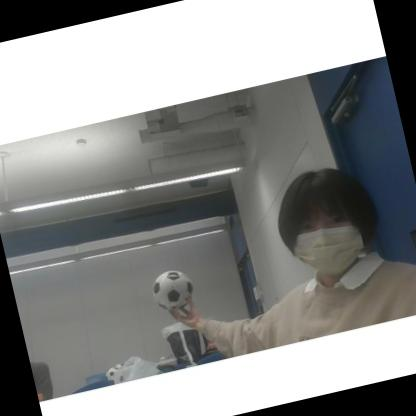ball: (149, 266, 198, 313)
